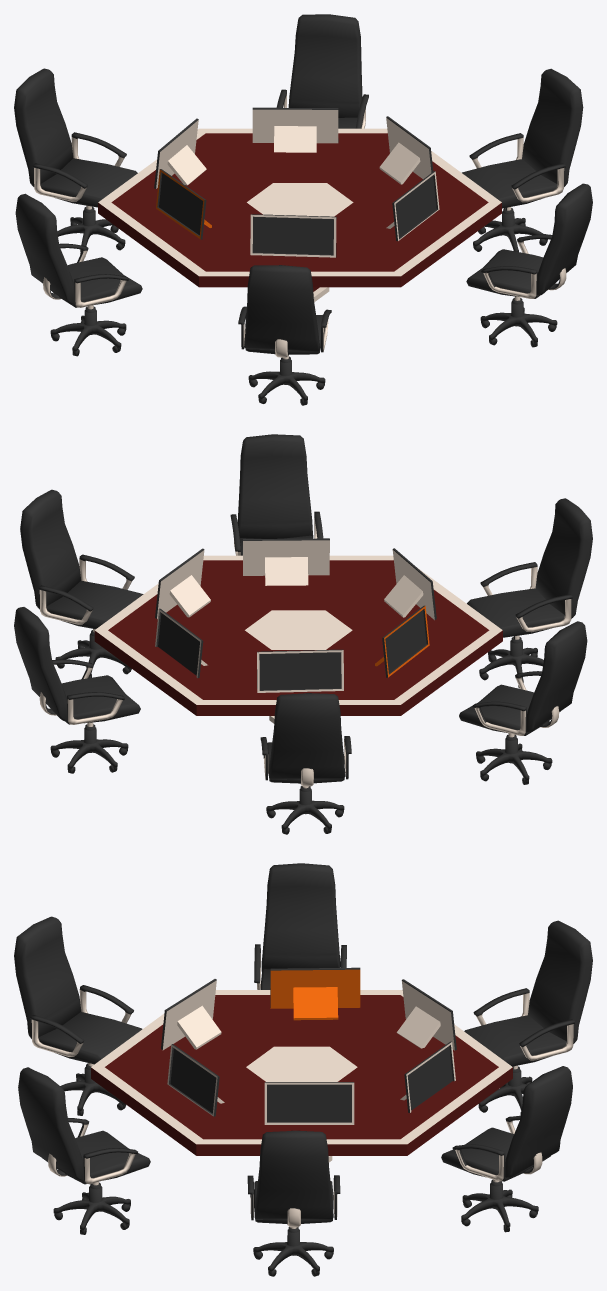
File: 123 - Multiplayer.glb
3 renders of one model, top to bottom at view 1: azimuth 30°, elevation 25°; view 2: azimuth 150°, elevation 25°; view 3: azimuth 270°, elevation 25°, orthographic. The views are drawn at different scales.
Visible parts, largest first — view 1: 123 - Multiplayer; view 2: 123 - Multiplayer; view 3: 123 - Multiplayer.
Part boxes in pixels (x1,y1,x2,y2): 123 - Multiplayer: [14, 14, 592, 405]; 123 - Multiplayer: [14, 434, 592, 834]; 123 - Multiplayer: [14, 863, 592, 1276].
Size of the model in its own units: 3.17 by 0.8614 by 2.82.
